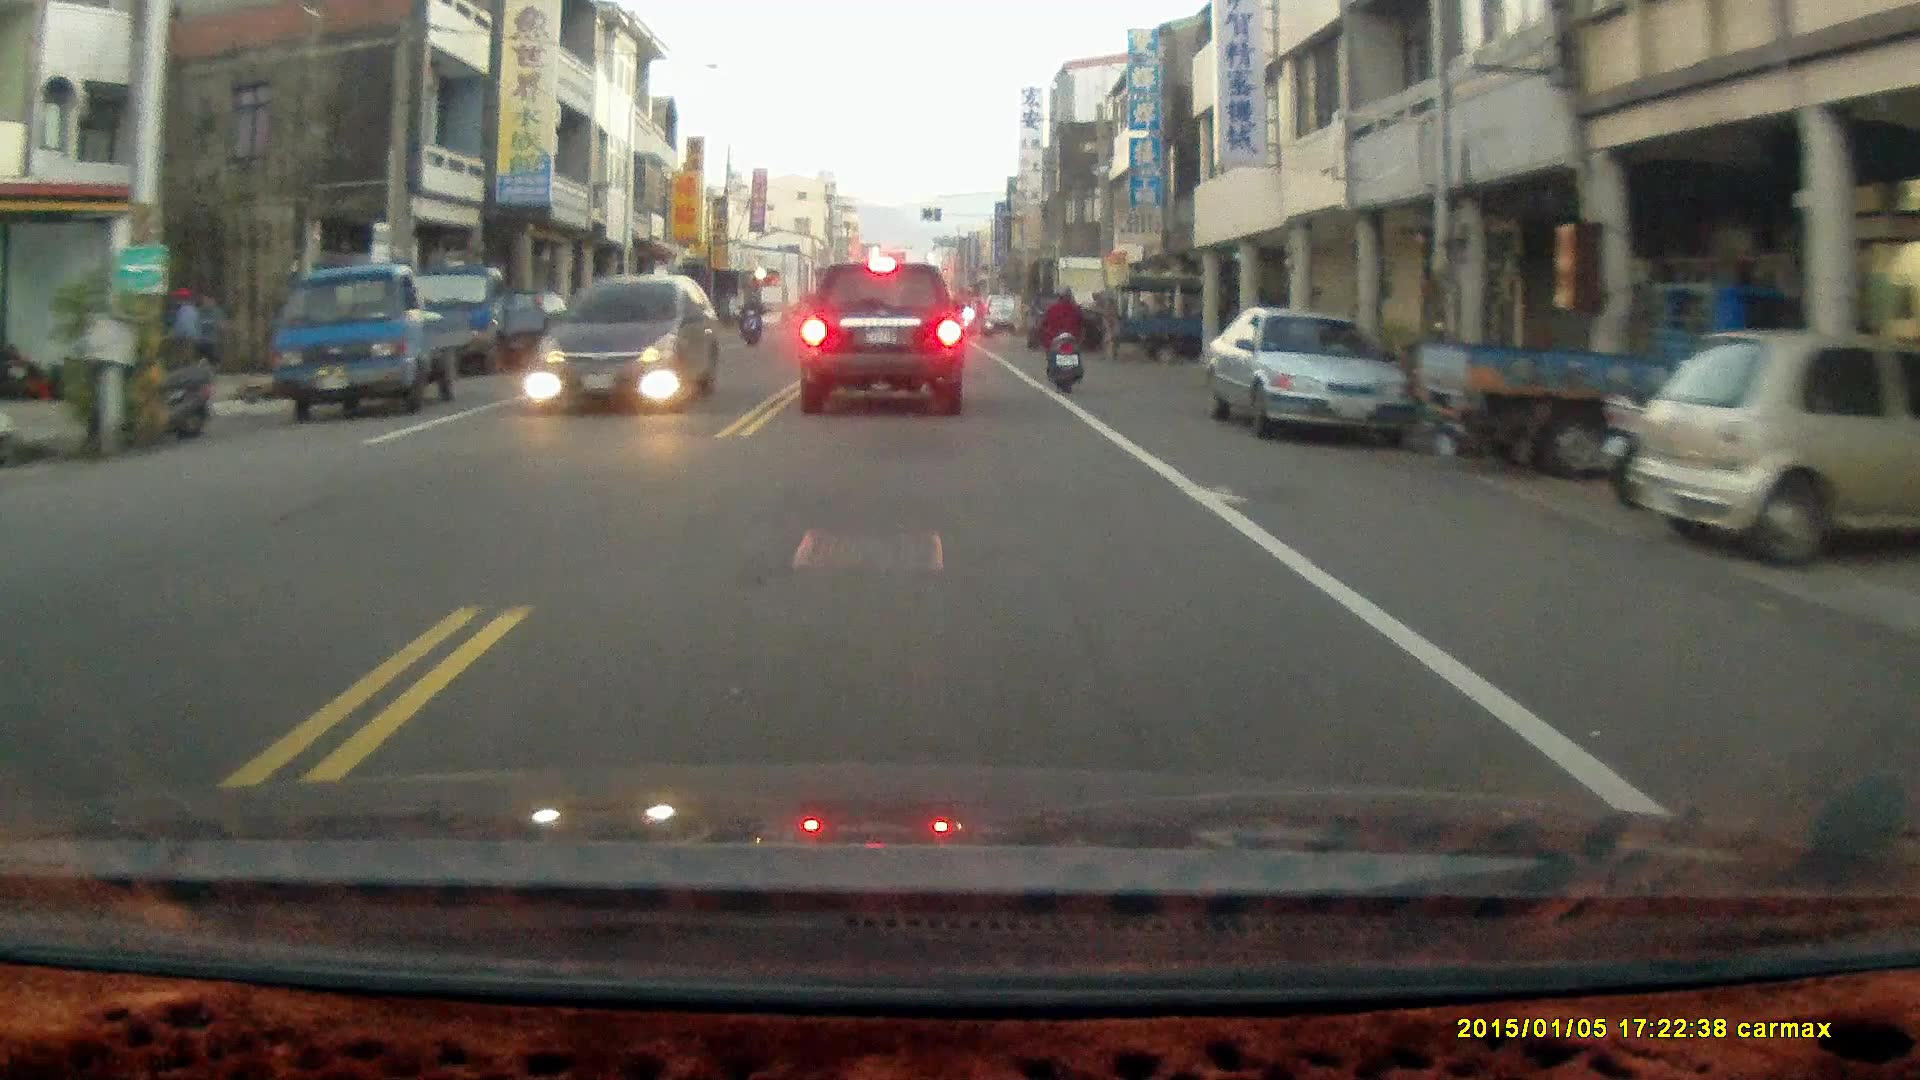pedestrian: (170, 285, 199, 390), (196, 290, 226, 388)
rider: (1039, 282, 1085, 394), (736, 294, 763, 347), (963, 297, 996, 339)
vehicle: (1414, 275, 1818, 482), (1626, 326, 1920, 575), (275, 264, 479, 426), (794, 258, 967, 422), (1206, 310, 1413, 445), (537, 277, 719, 418), (404, 257, 559, 374), (1116, 274, 1279, 363)
